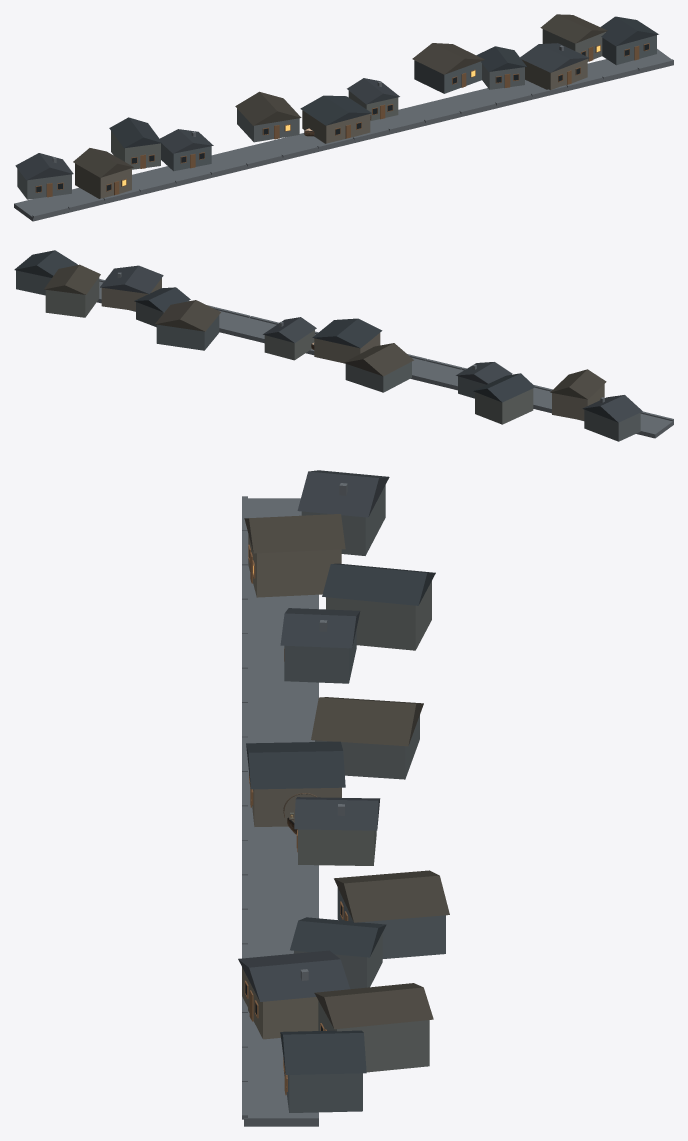
The model's file is river-life-v007.glb.
3 renders of one model, top to bottom at view 1: azimuth 30°, elevation 25°; view 2: azimuth 150°, elevation 25°; view 3: azimuth 270°, elevation 25°, orthographic. The views are drawn at different scales.
Parts seen in each view (by area): view 1: Shore_Village | charcoal pitched roofs, Shore_Village | old quay granite, Shore_Village | quiet weathered plaster, Shore_Village | weathered warm timber, Shore_Village | dark inactive windows; view 2: Shore_Village | charcoal pitched roofs, Shore_Village | quiet weathered plaster, Shore_Village | old quay granite; view 3: Shore_Village | charcoal pitched roofs, Shore_Village | quiet weathered plaster, Shore_Village | old quay granite.
Boxes of the visible parts, bbox=[...] form: Shore_Village | charcoal pitched roofs: bbox=[15, 14, 658, 180]; Shore_Village | old quay granite: bbox=[14, 45, 673, 221]; Shore_Village | quiet weathered plaster: bbox=[17, 29, 656, 199]; Shore_Village | weathered warm timber: bbox=[35, 43, 649, 197]; Shore_Village | dark inactive windows: bbox=[36, 44, 648, 192]; Shore_Village | charcoal pitched roofs: bbox=[14, 250, 642, 422]; Shore_Village | quiet weathered plaster: bbox=[16, 270, 640, 441]; Shore_Village | old quay granite: bbox=[97, 272, 673, 438]; Shore_Village | charcoal pitched roofs: bbox=[238, 470, 449, 1074]; Shore_Village | quiet weathered plaster: bbox=[242, 485, 445, 1112]; Shore_Village | old quay granite: bbox=[242, 483, 347, 1126].
Size of the model in its own units: 90 by 4.84 by 13.01.
14 materials, 1 textured.
